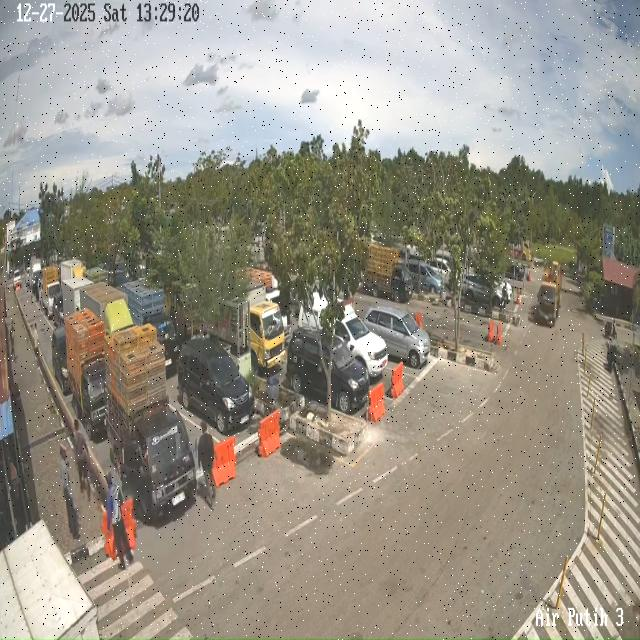Golongan IVA: (178, 338, 255, 434), (286, 328, 369, 413), (364, 305, 430, 369), (408, 262, 444, 294)
Golongan IVB: (105, 380, 197, 522), (65, 358, 106, 443), (362, 243, 413, 303), (40, 266, 60, 318)
Golongan VB: (538, 245, 564, 334)
